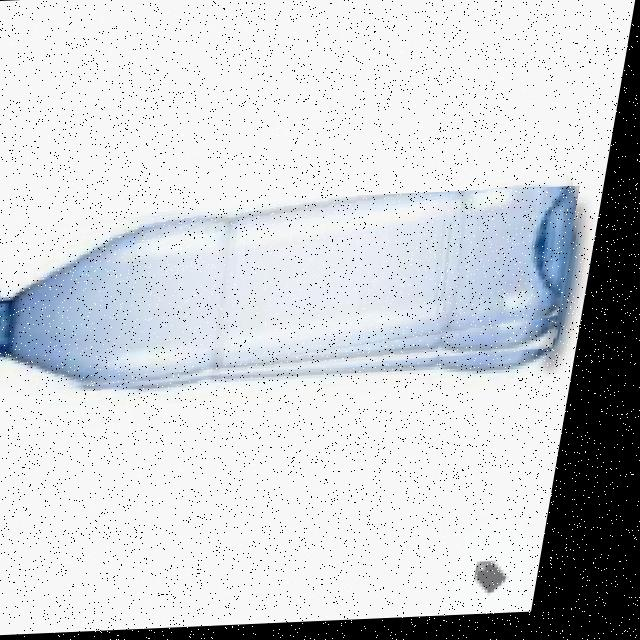plasticbottle: (0, 190, 587, 397)
